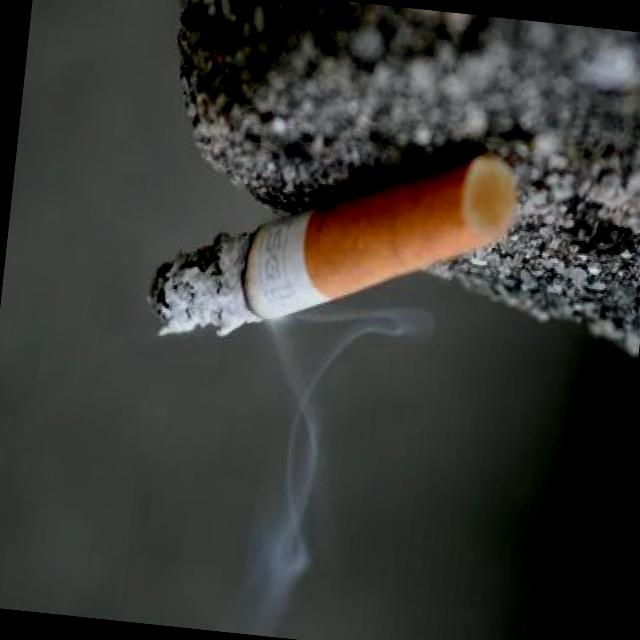cigarette: (140, 107, 538, 380)
